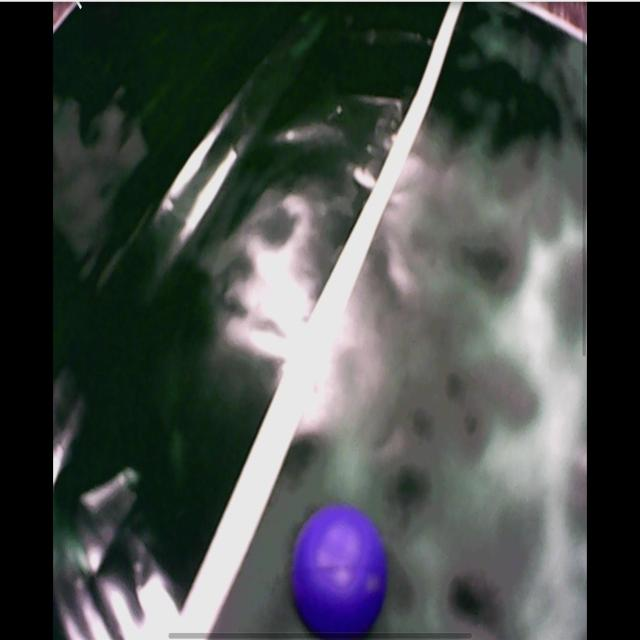ball: (293, 505, 387, 640)
